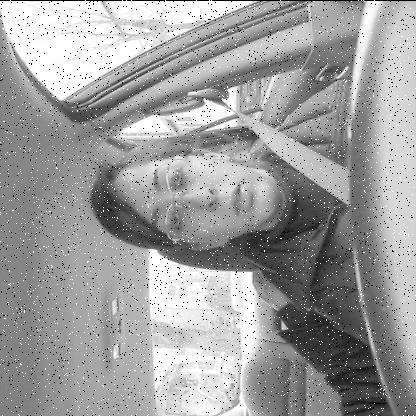seatbelt: (80, 116, 350, 255)
